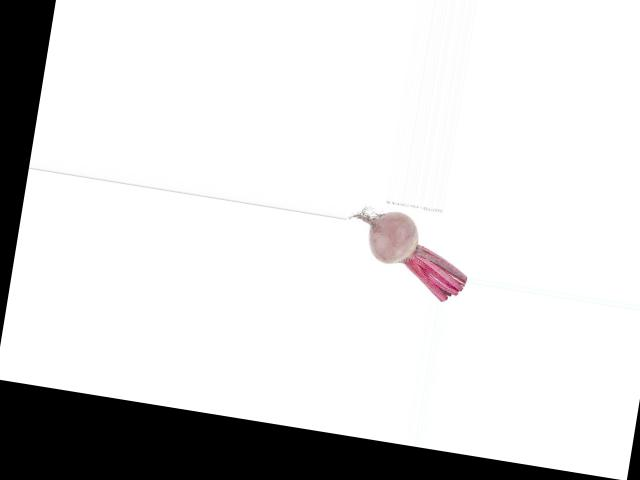beet: (338, 204, 476, 304)
